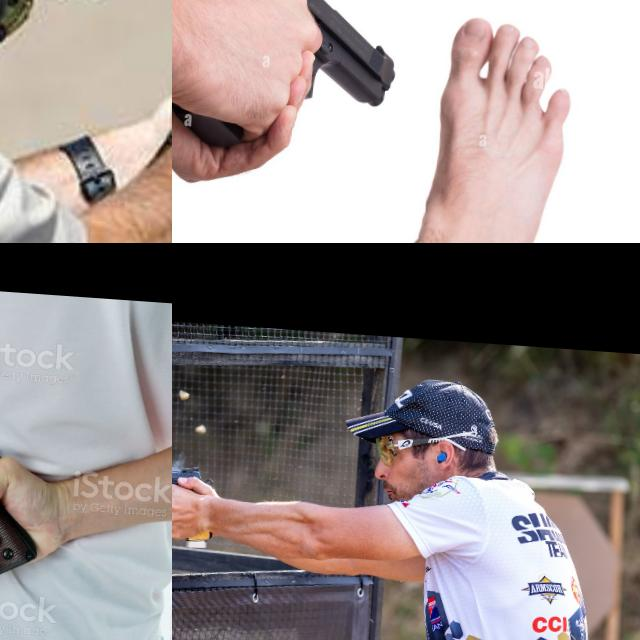handgun: (0, 401, 154, 586), (182, 0, 413, 111), (172, 457, 232, 503)
